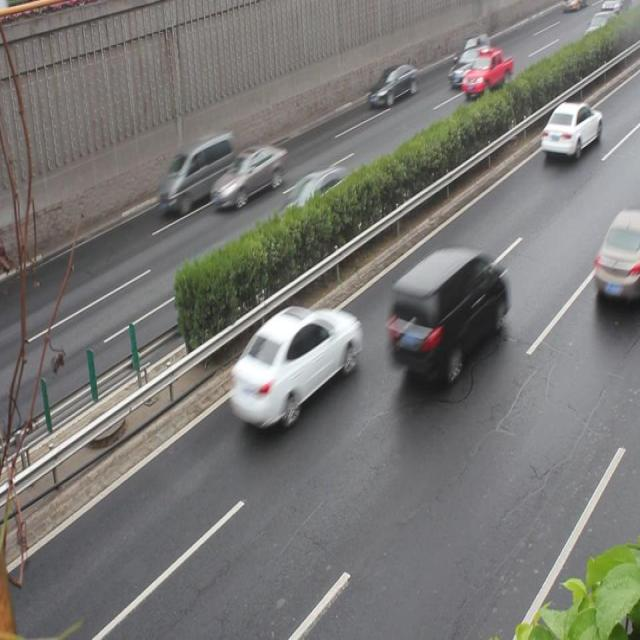car: (230, 304, 360, 431), (388, 248, 504, 382), (273, 165, 359, 238), (209, 142, 286, 210), (593, 207, 640, 309), (540, 100, 601, 160)
truck: (158, 132, 235, 215)
